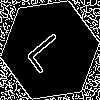L: (25, 25, 75, 75)
